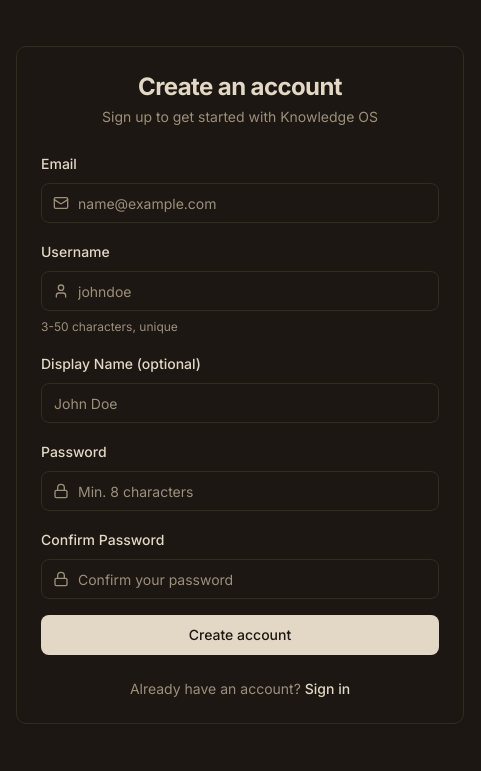
LoginPage › Register Mode › validates password match
Type "test@example.com" into the field labelled "Email" at point(240, 203), box [41,183,439,223]
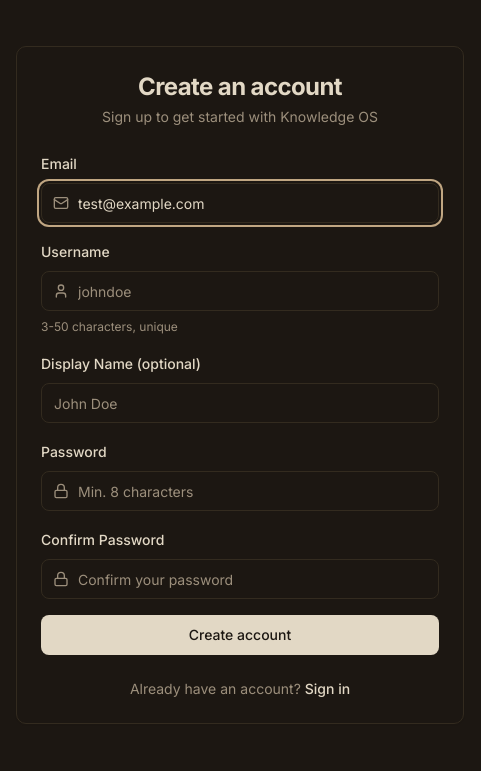
Type "testuser" into the field labelled "Username" at point(240, 291), box [41,271,439,311]
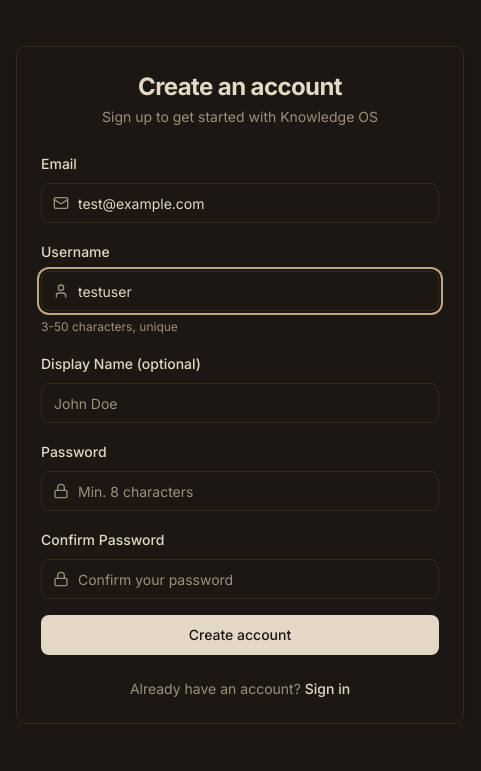
Type "ValidPass123" into the password field labelled "Password" at point(240, 491), box [41,471,439,511]
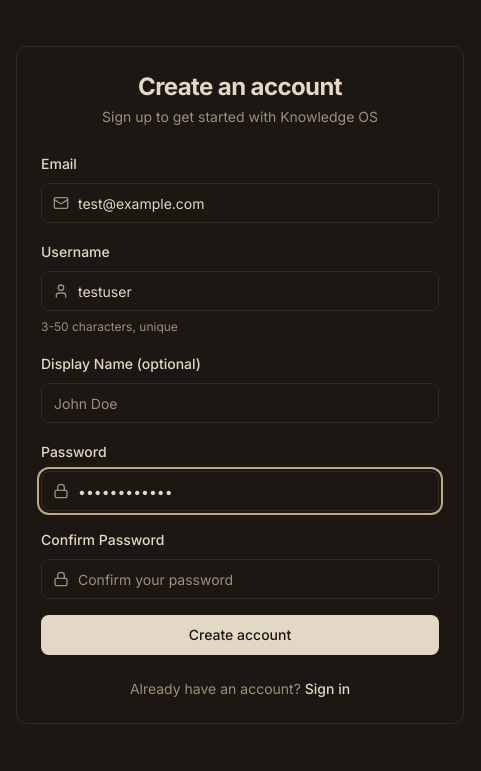
Type "DifferentPass123" into the password field labelled "Confirm Password" at point(240, 579), box [41,559,439,599]
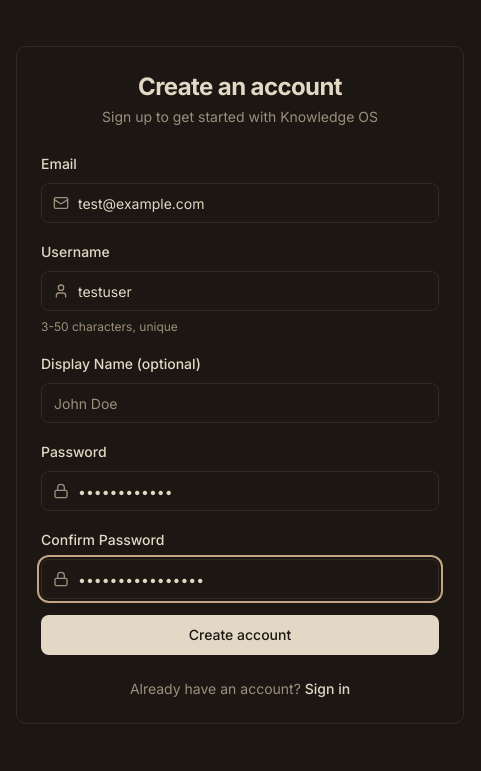
Click the button "Create account" at point(240, 635), box [41,615,439,655]
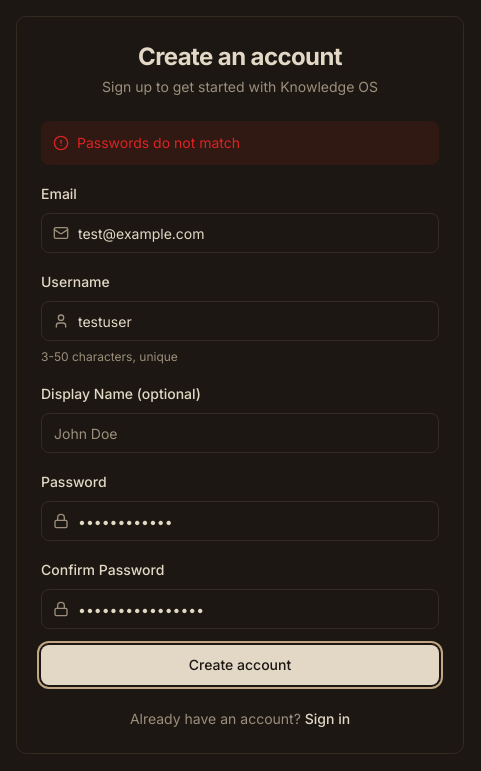
Expected: the text "Passwords do not match" is shown, [77,133,240,153]
